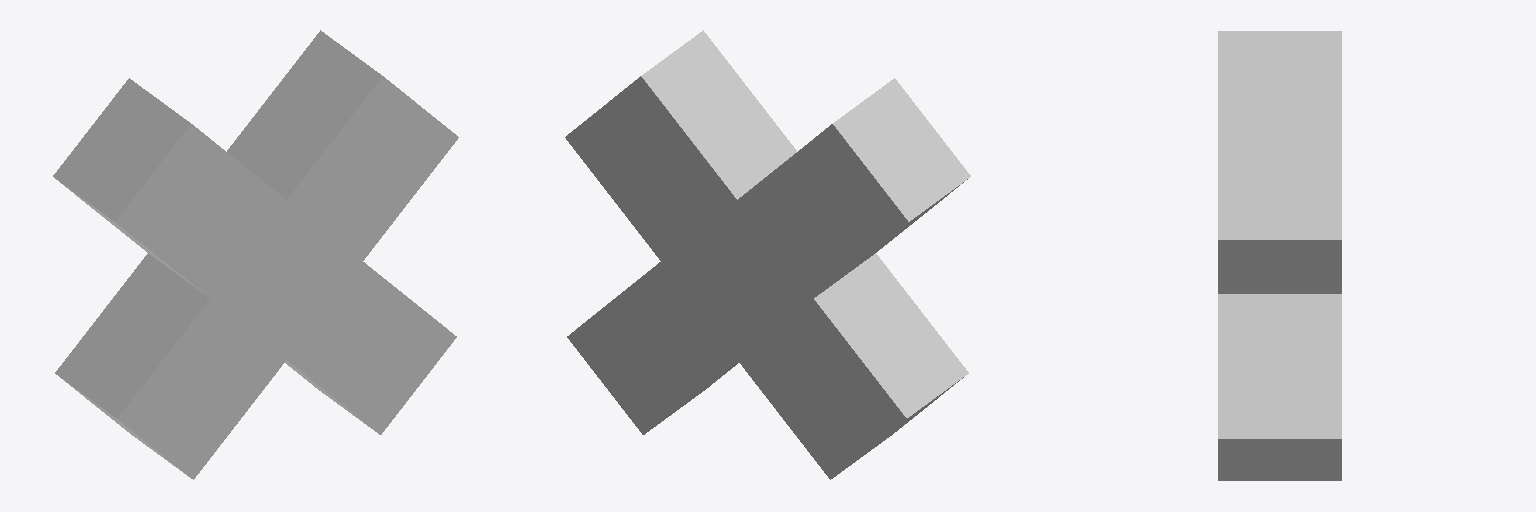
File: receptor-clear.obj
3 renders of one model, left to right at view 1: azimuth 30°, elevation 25°; view 2: azimuth 150°, elevation 25°; view 3: azimuth 270°, elevation 25°, orthographic.
Parts seen in each view (by area): view 1: clear_Cube.016; view 2: clear_Cube.016; view 3: clear_Cube.016.
Boxes of the visible parts, box(x1,y1,x2,y2) form: clear_Cube.016: box(53, 30, 458, 479); clear_Cube.016: box(565, 30, 970, 479); clear_Cube.016: box(1218, 31, 1341, 480).
Size of the model in its own units: 6.37 by 6.35 by 2.